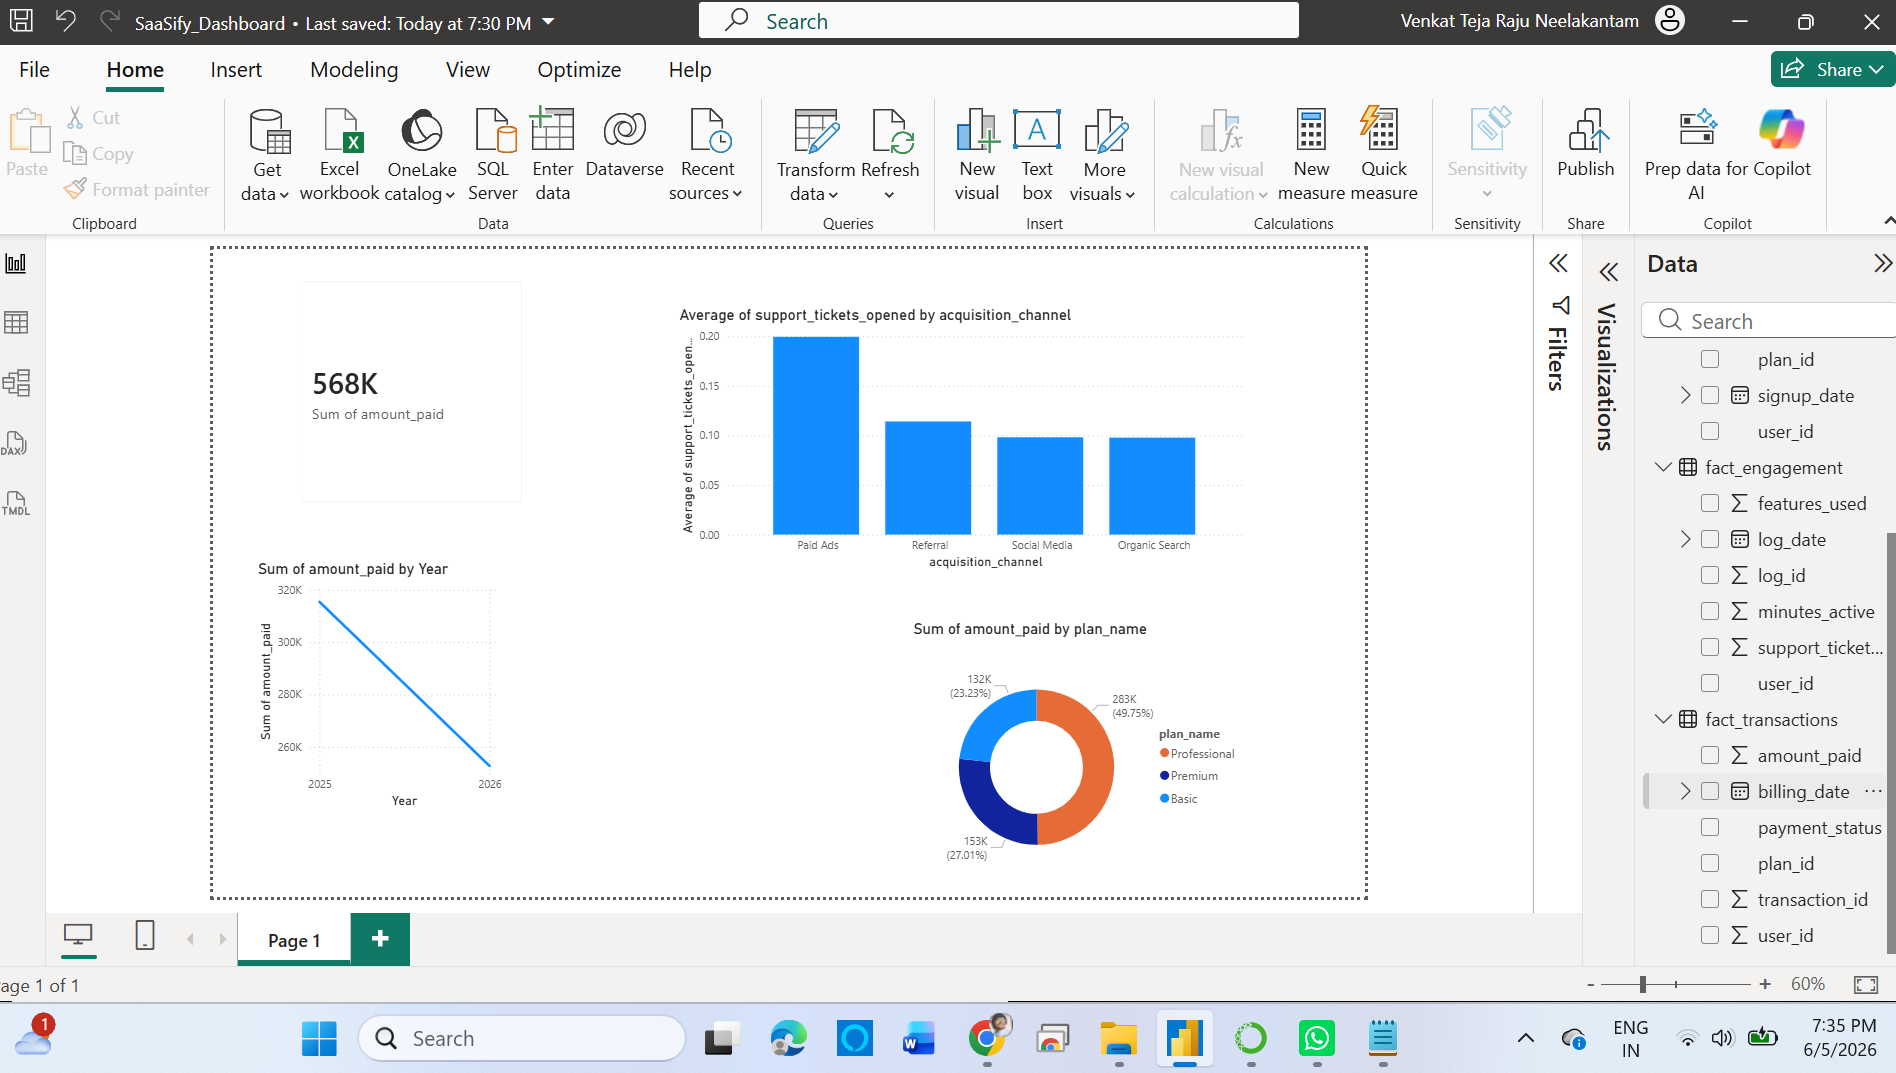

The page's visual inventory and layout, read from the dashboard file:
{"tool":"powerbi","page":{"name":"Page 1","canvas":[1280,720],"ordinal":0},"visuals":[{"type":"cardVisual","fields":{"Data":["Sum(fact_transactions.amount_paid)"]},"box":[80,18.3,280,280],"z":0},{"type":"lineChart","fields":{"Category":["fact_transactions.billing_date.Variation.Date Hierarchy.Year","fact_transactions.billing_date.Variation.Date Hierarchy.Quarter","fact_transactions.billing_date.Variation.Date Hierarchy.Month","fact_transactions.billing_date.Variation.Date Hierarchy.Day"],"Y":["Sum(fact_transactions.amount_paid)"]},"box":[45,345,280,280],"z":1},{"type":"clusteredColumnChart","fields":{"Category":["dim_users.acquisition_channel"],"Y":["Avg(fact_engagement.support_tickets_opened)"]},"box":[513.3,63.3,636.7,296.7],"z":2},{"type":"donutChart","fields":{"Category":["dim_plans.plan_name"],"Y":["Sum(fact_transactions.amount_paid)"]},"box":[773.3,411.7,376.7,308.3],"z":3}]}

Visuals, with their boxes on the page's 1280x720 design canvas (x1, y1, x2, y2). These are canvas units, not pixel positions in the 1896x1073 screenshot, which may show the page scaled, cropped or inside an application window:
cardVisual - Sum(fact_transactions.amount_paid): 80/18/360/298
lineChart - fact_transactions.billing_date.Variation.Date Hierarchy.Year x fact_transactions.billing_date.Variation.Date Hierarchy.Quarter: 45/345/325/625
clusteredColumnChart - dim_users.acquisition_channel x Avg(fact_engagement.support_tickets_opened): 513/63/1150/360
donutChart - dim_plans.plan_name x Sum(fact_transactions.amount_paid): 773/412/1150/720
